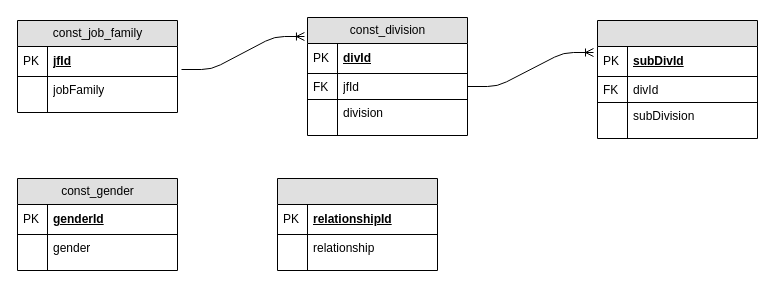
The diagram is 775 pixels wide and 288 high, and some of its shapes have lost their labels. Here are the shapes that lost their labels. From the top down, the box of each, then its label:
(596, 20, 758, 138): const_subdivision
(276, 178, 438, 270): const_relationship
